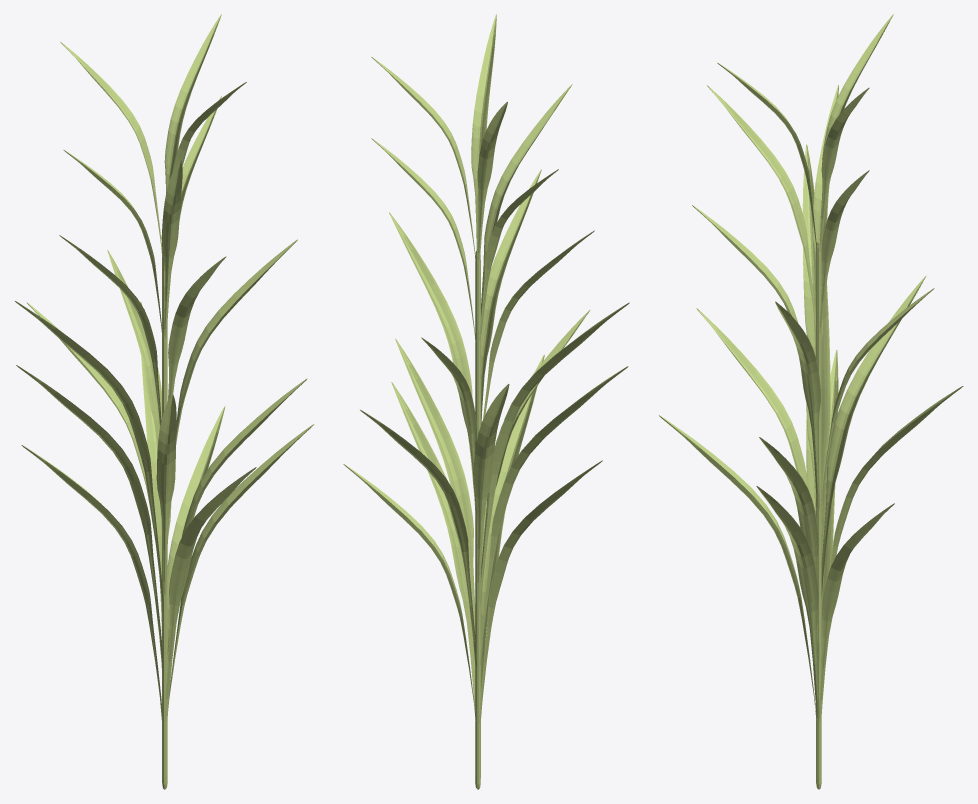
File: Bush 21.fbx
3 renders of one model, left to right at view 1: azimuth 30°, elevation 25°; view 2: azimuth 150°, elevation 25°; view 3: azimuth 270°, elevation 25°, orthographic.
Parts seen in each view (by area): view 1: Stem bush; view 2: Stem bush; view 3: Stem bush.
Part boxes in pixels (x1,y1,x2,y2): Stem bush: [15, 14, 313, 789]; Stem bush: [343, 14, 629, 789]; Stem bush: [659, 14, 963, 789].
Bounding box in the file's own units: 7771 × 20251 × 7541.
